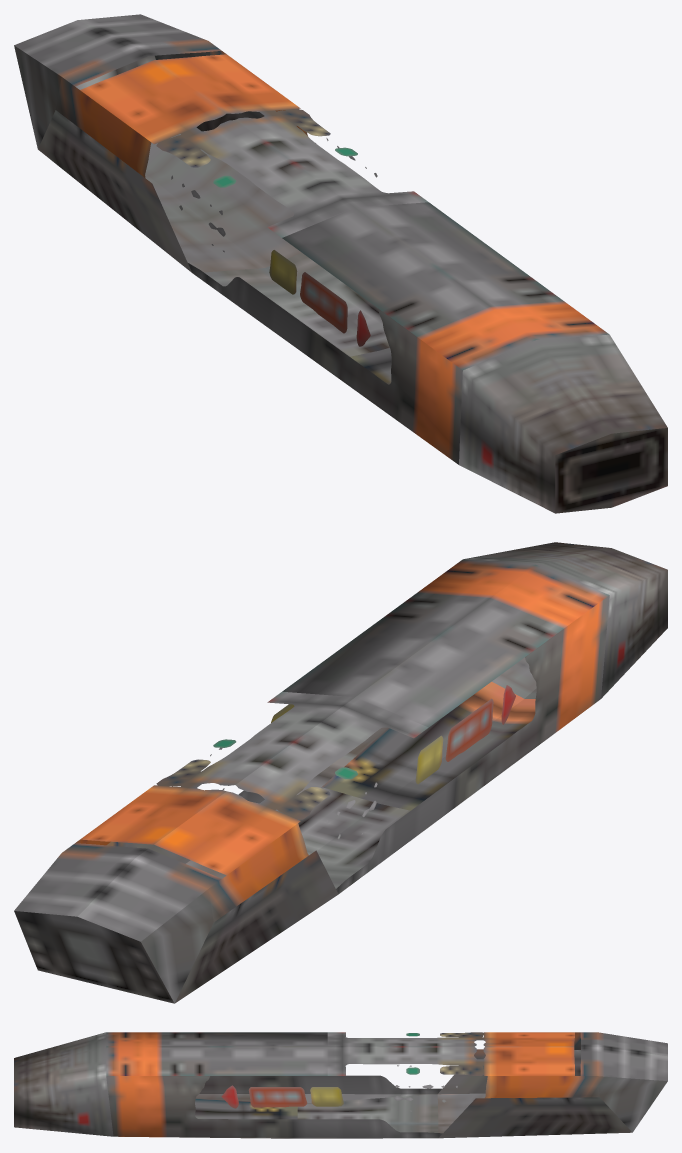
3 renders of one model, top to bottom at view 1: azimuth 30°, elevation 25°; view 2: azimuth 150°, elevation 25°; view 3: azimuth 270°, elevation 25°, orthographic. The views are drawn at different scales.
Parts seen in each view (by area): view 1: PulsarGunUV; view 2: PulsarGunUV; view 3: PulsarGunUV.
Part boxes in pixels (x1,y1,x2,y2): PulsarGunUV: (14,14,667,513); PulsarGunUV: (14,542,667,1003); PulsarGunUV: (14,1032,667,1138).
Bounding box in the file's own units: 3.38 × 2.5 × 19.1.
